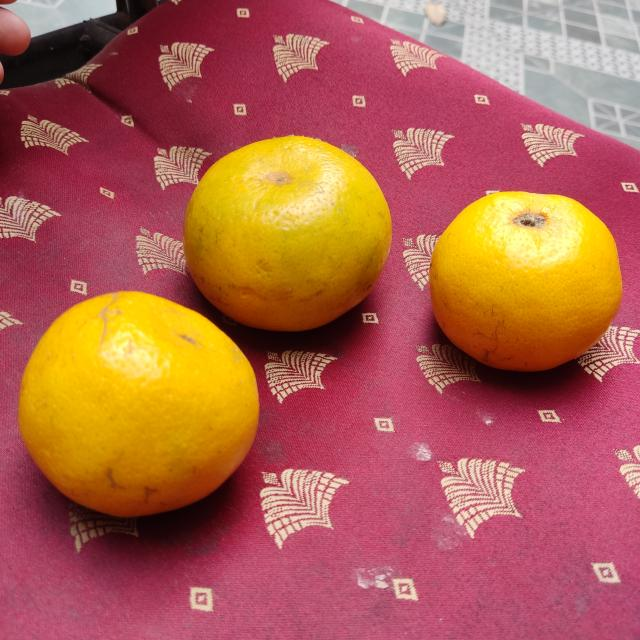orange: (19, 291, 261, 518), (184, 135, 391, 332), (432, 189, 624, 372)
